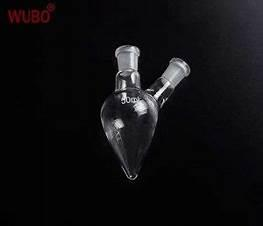Pear shaped flask: (95, 34, 193, 187)
